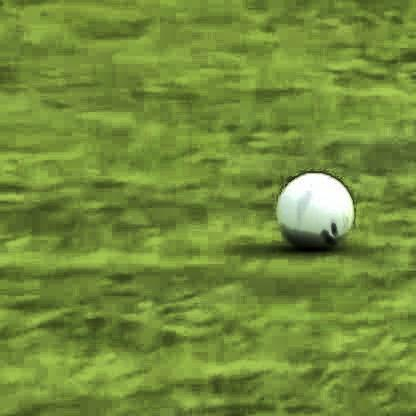golfball: (277, 163, 351, 243)
